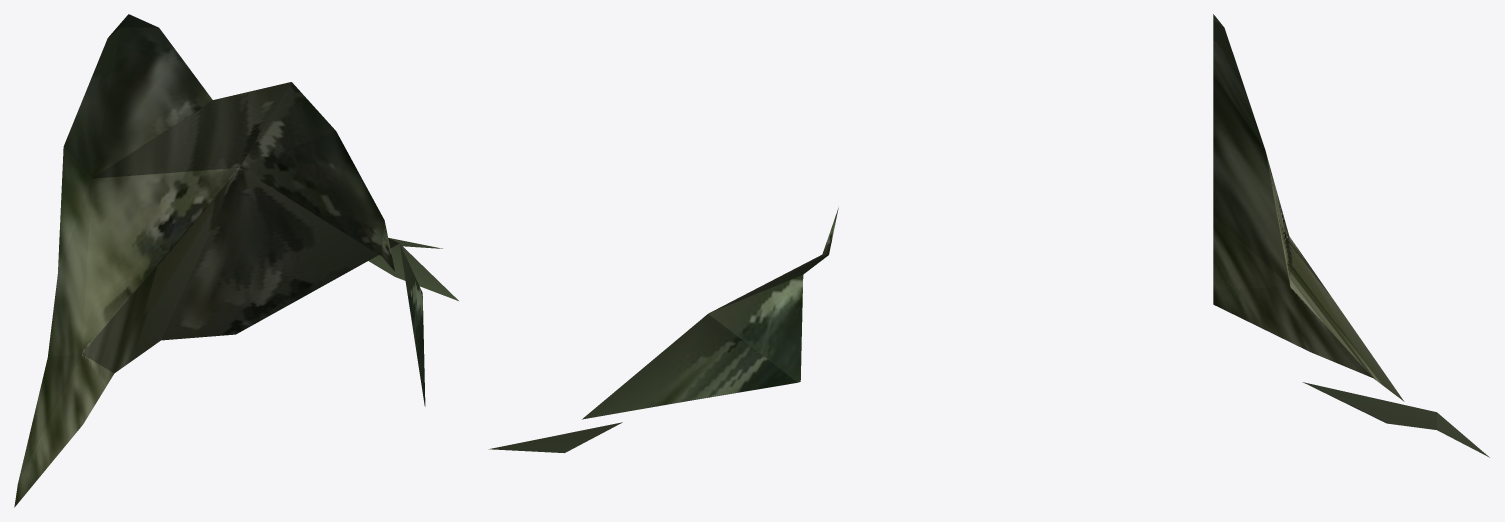
The picture shows the model from 3 angles, left to right: view 1: azimuth 30°, elevation 25°; view 2: azimuth 150°, elevation 25°; view 3: azimuth 270°, elevation 25°; orthographic projection. The views are drawn at different scales.
Bounding box in the file's own units: 2.17 × 1.65 × 1.25.
Materials: 1 (1 with a texture image).
